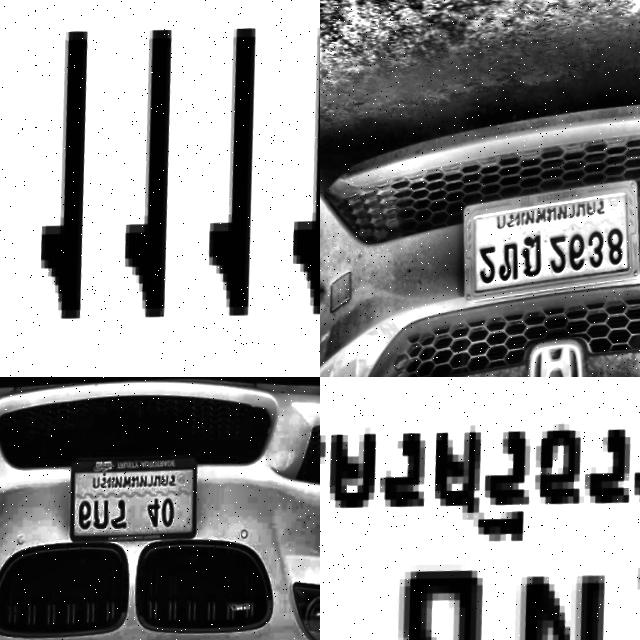license-plate: (0, 0, 320, 377), (320, 377, 640, 640), (458, 164, 640, 305), (65, 442, 206, 544)
